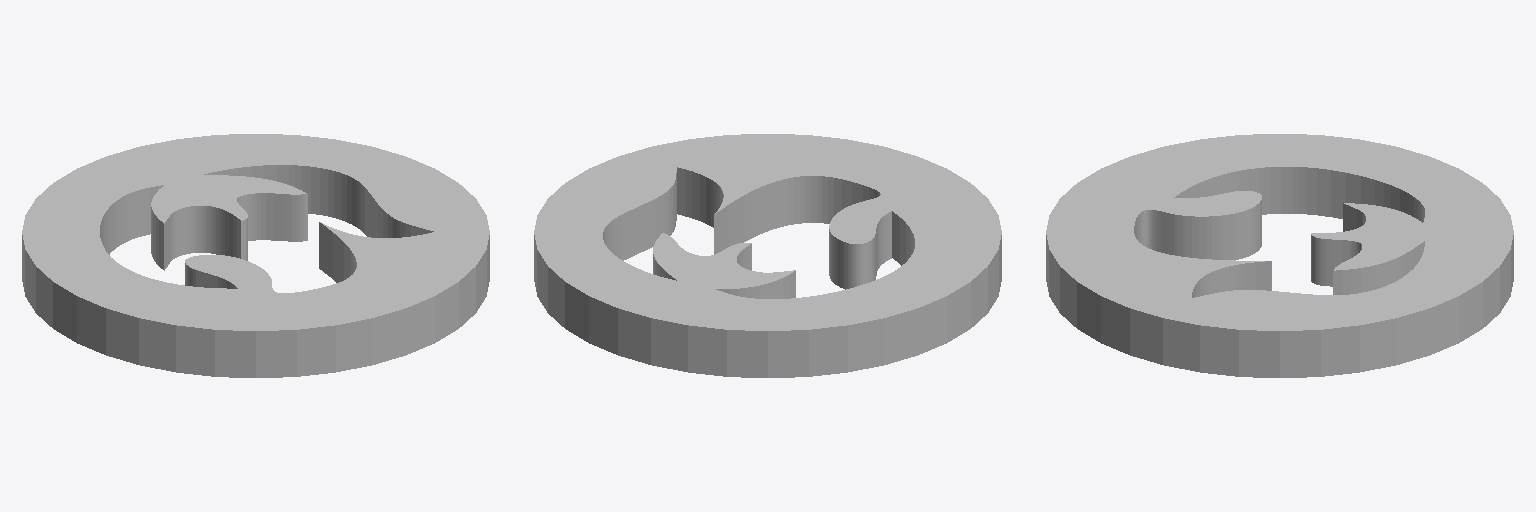
File: flame_coin--hollow.obj
The picture shows the model from 3 angles: view 1: azimuth 30°, elevation 25°; view 2: azimuth 150°, elevation 25°; view 3: azimuth 270°, elevation 25°; orthographic projection.
Visible parts, largest first — view 1: Cylinder.1, Extrude.1; view 2: Cylinder.1, Extrude.1; view 3: Cylinder.1, Extrude.1.
Boxes of the visible parts, x1=… form: Cylinder.1: x1=22, y1=134, x2=489, y2=377; Extrude.1: x1=100, y1=165, x2=433, y2=288; Cylinder.1: x1=534, y1=134, x2=1001, y2=377; Extrude.1: x1=603, y1=167, x2=914, y2=298; Cylinder.1: x1=1046, y1=134, x2=1513, y2=377; Extrude.1: x1=1134, y1=167, x2=1424, y2=297.
Size of the model in its own units: 360 by 40 by 360.